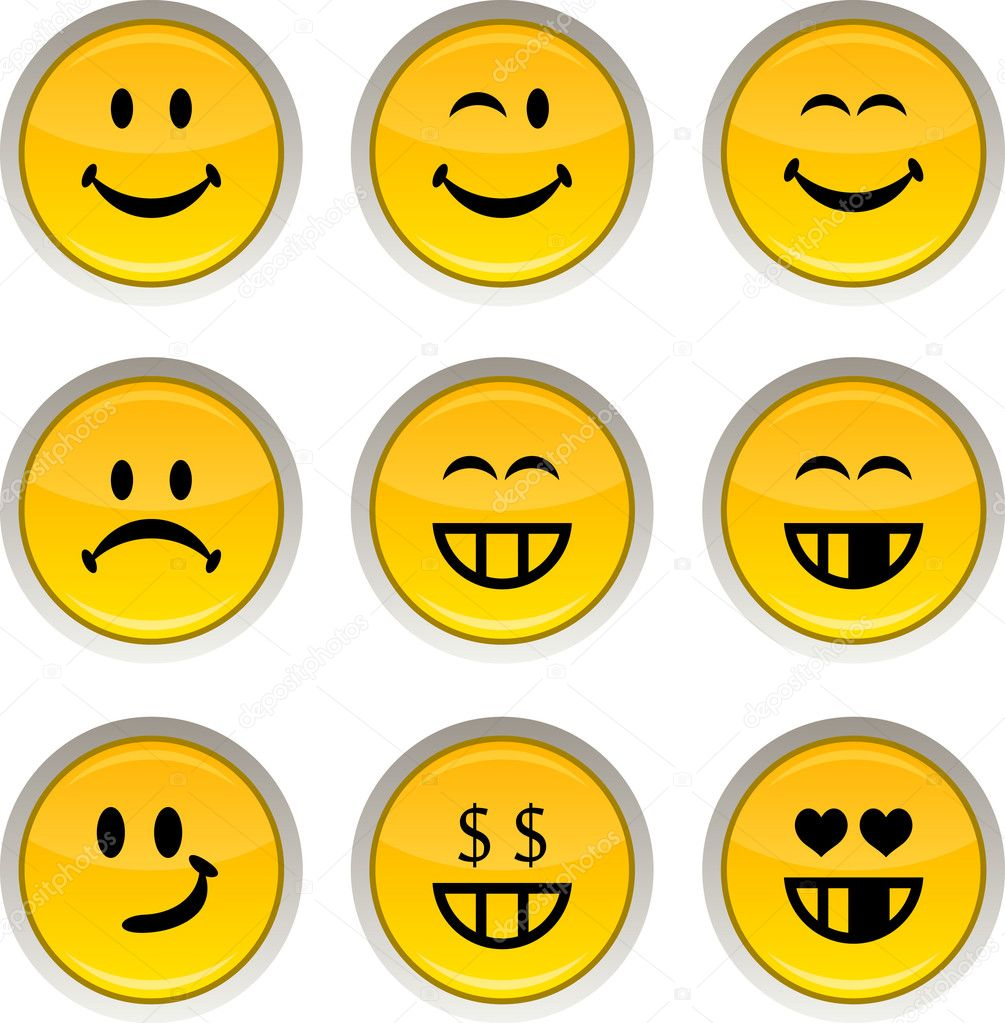triste: (83, 444, 222, 600)
